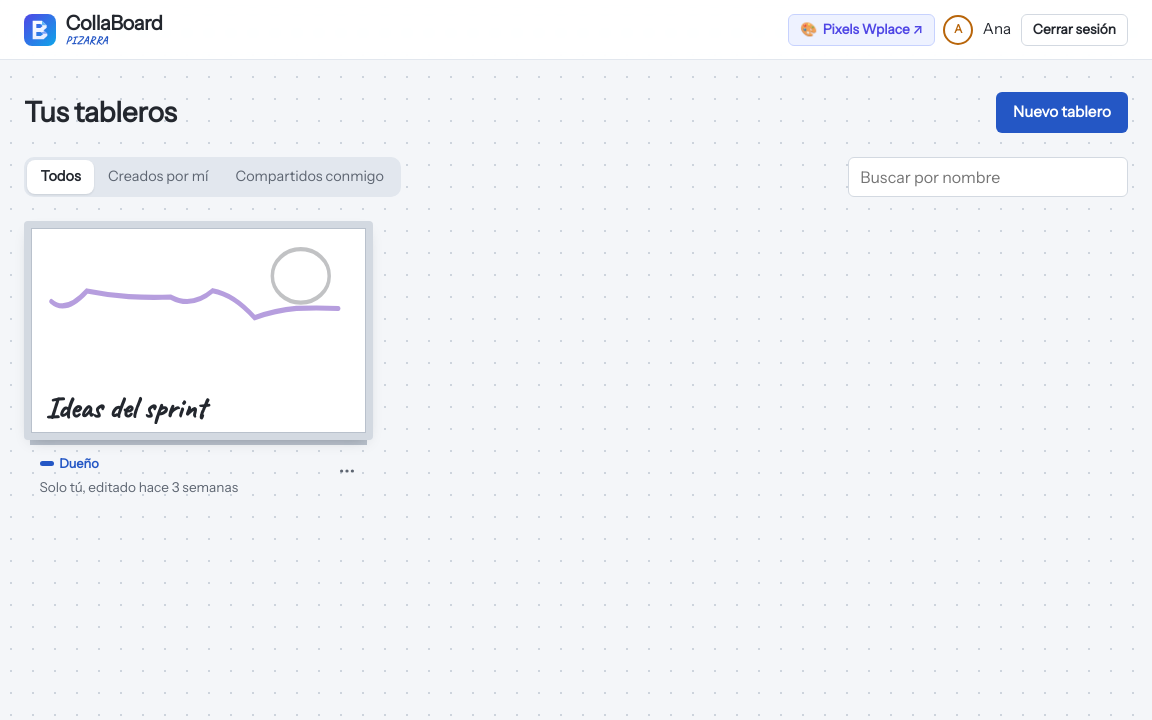
Test: Dashboard › borra un tablero tras confirmar
Click the button named "Opciones de" at [347, 471], box [330, 454, 364, 488]
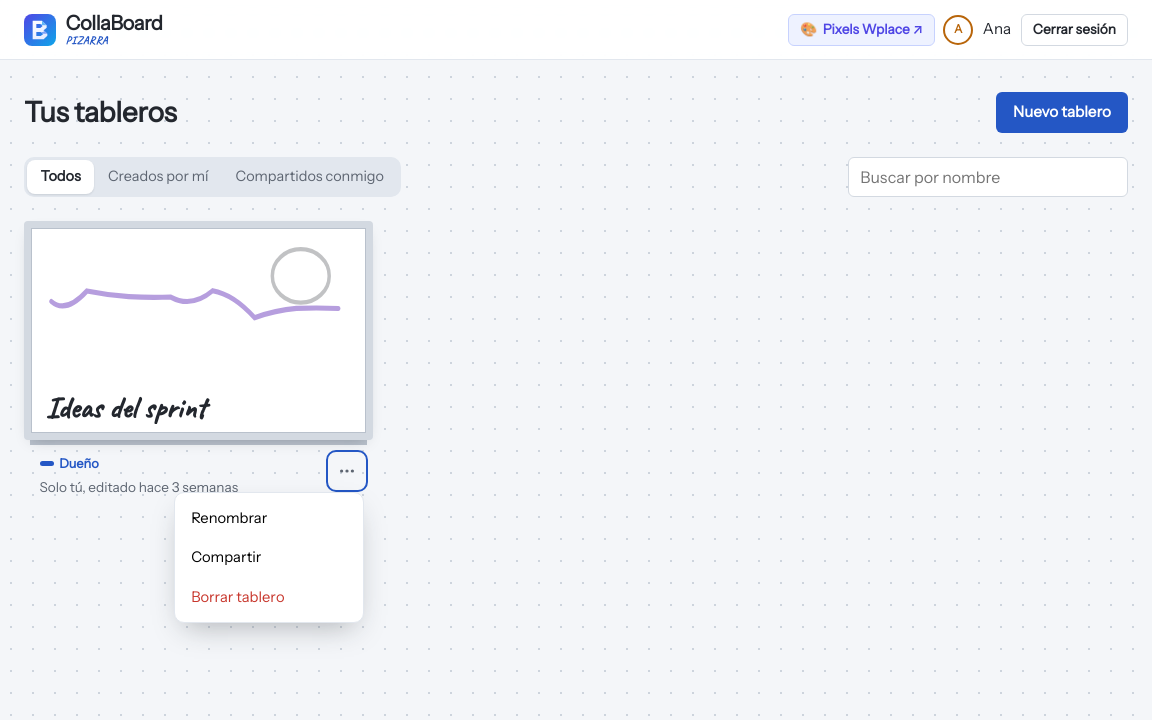
Click the menu item "Borrar tablero" at [269, 597], box [180, 577, 358, 617]
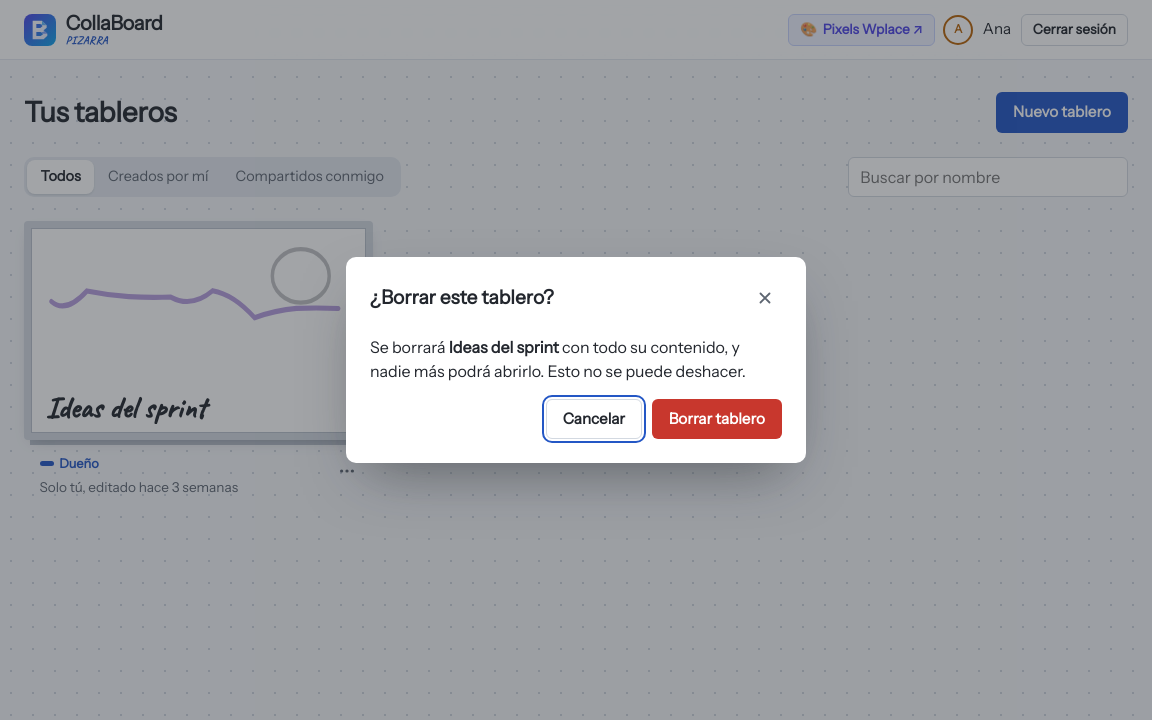
Click the button "Borrar tablero" at [717, 419], box [652, 399, 782, 439]
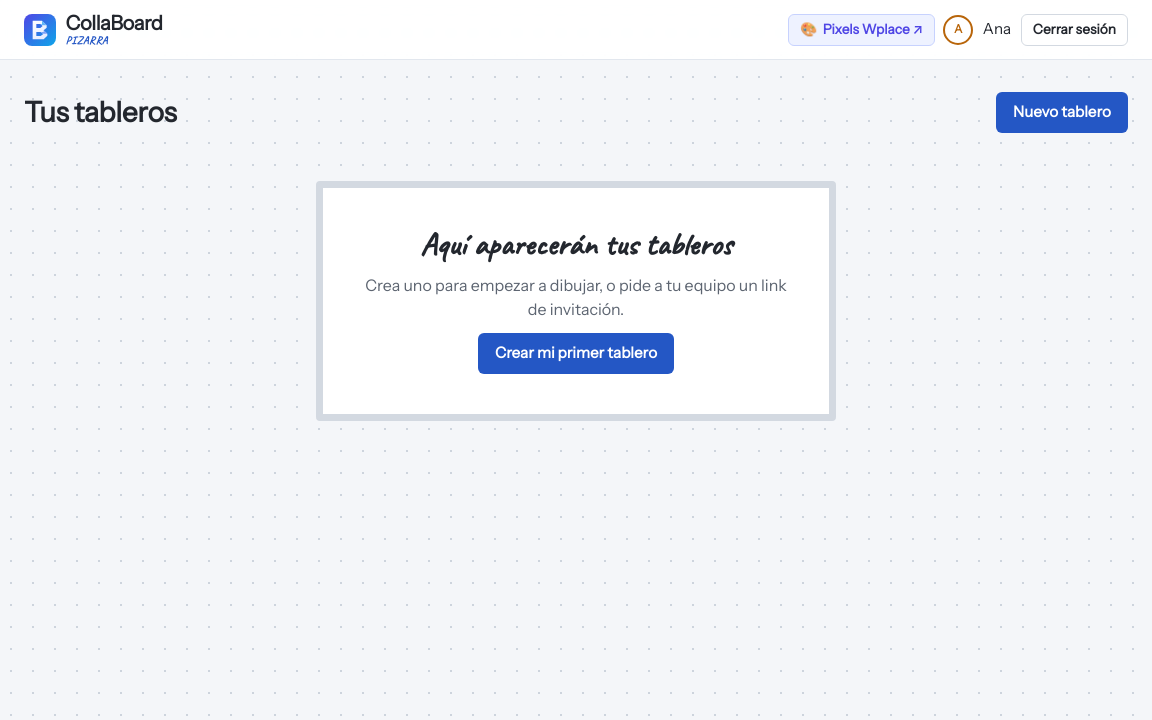
Check: the link "Ideas del sprint" is gone
